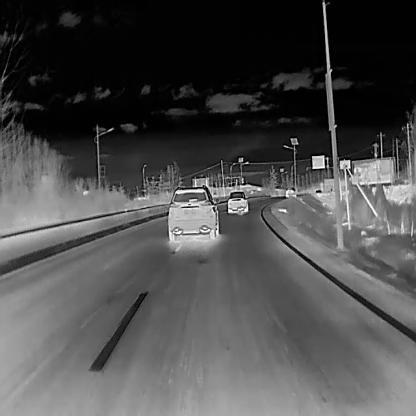car: (167, 185, 218, 242), (226, 190, 248, 214), (285, 186, 296, 197)
